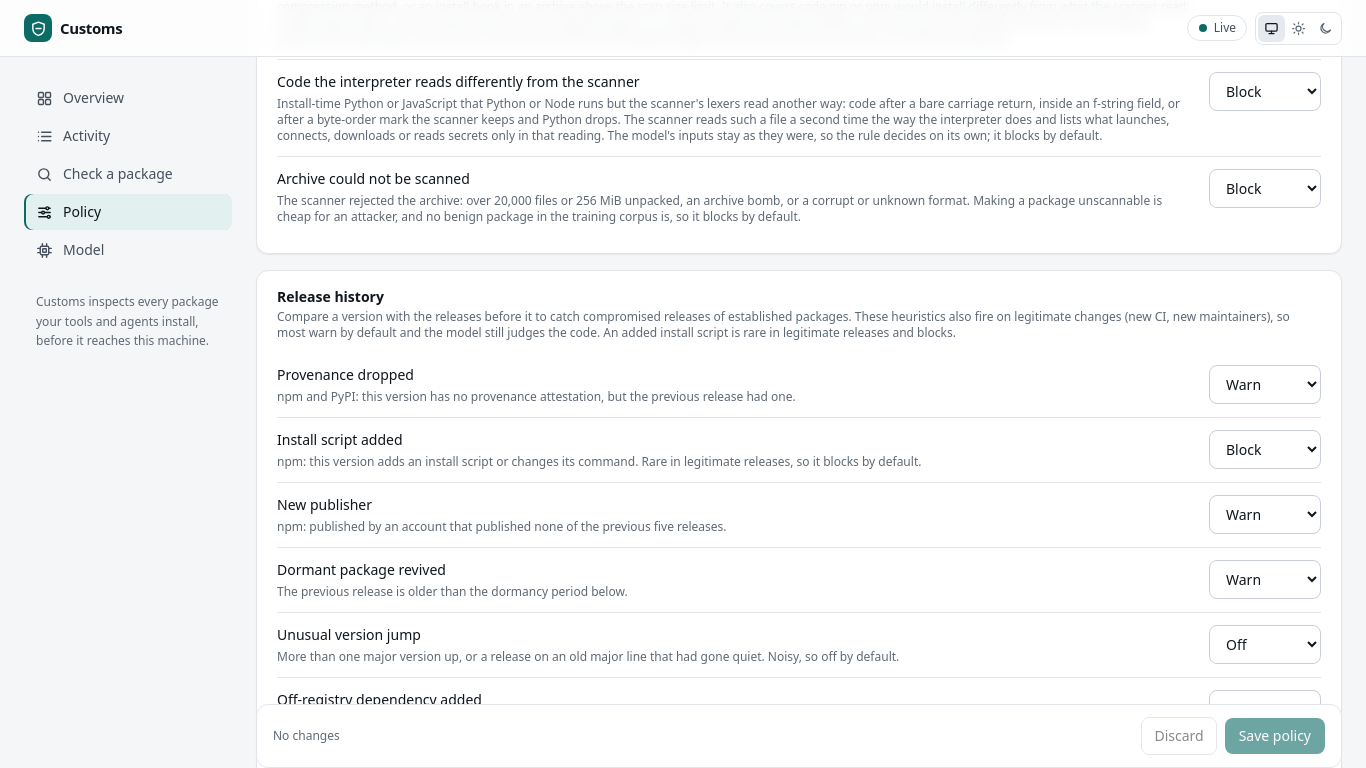
Test: Policy page › edits the release history rules
The width and height of the screenshot is (1366, 768).
(page scrolled)
expect the dropdown labelled "Unusual version jump" shows "Off": met, box [1209,625,1321,664]
expect the dropdown labelled "Install script added" shows "Block": met, box [1209,430,1321,469]
Select "Block" in the dropdown labelled "Provenance dropped" at (1265, 384), box [1209,365,1321,404]
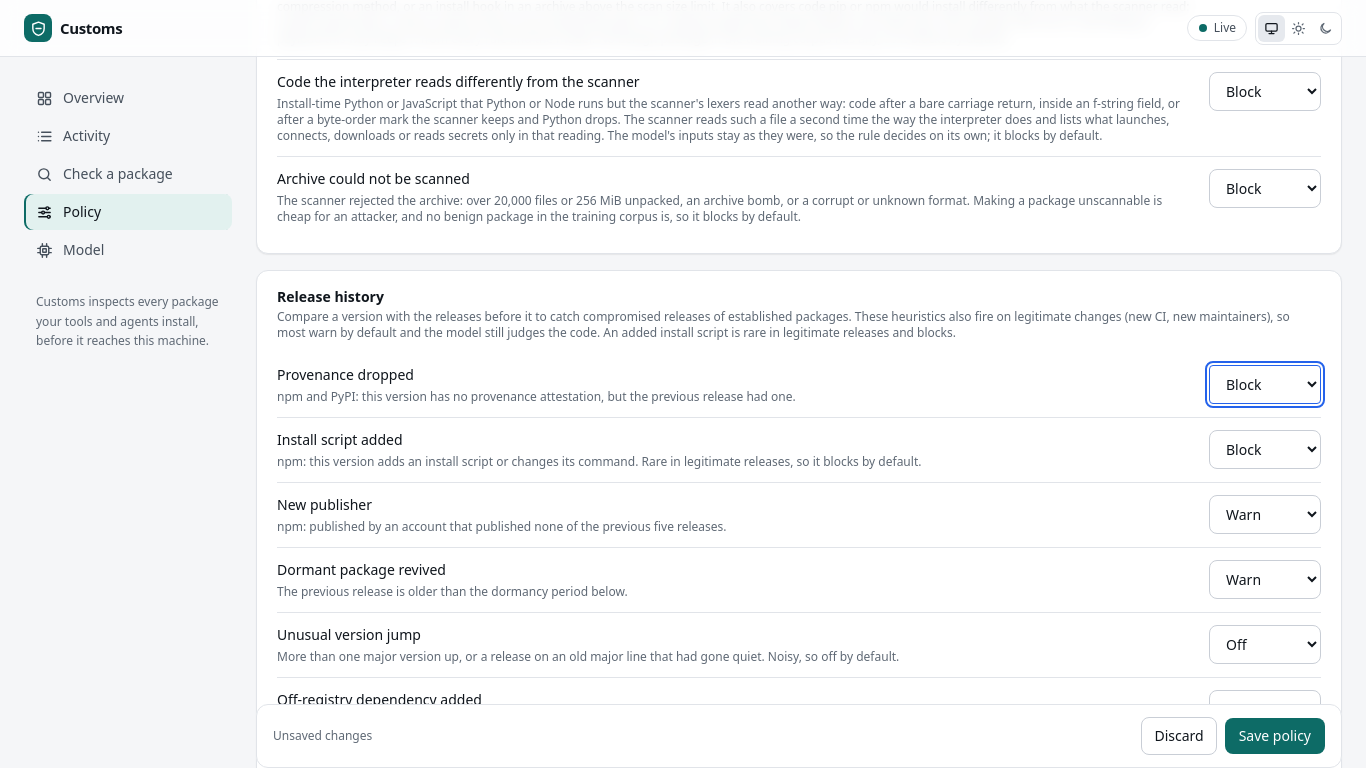
Select "Off" in the dropdown labelled "New publisher" at (1265, 514), box [1209,495,1321,534]
(page scrolled)
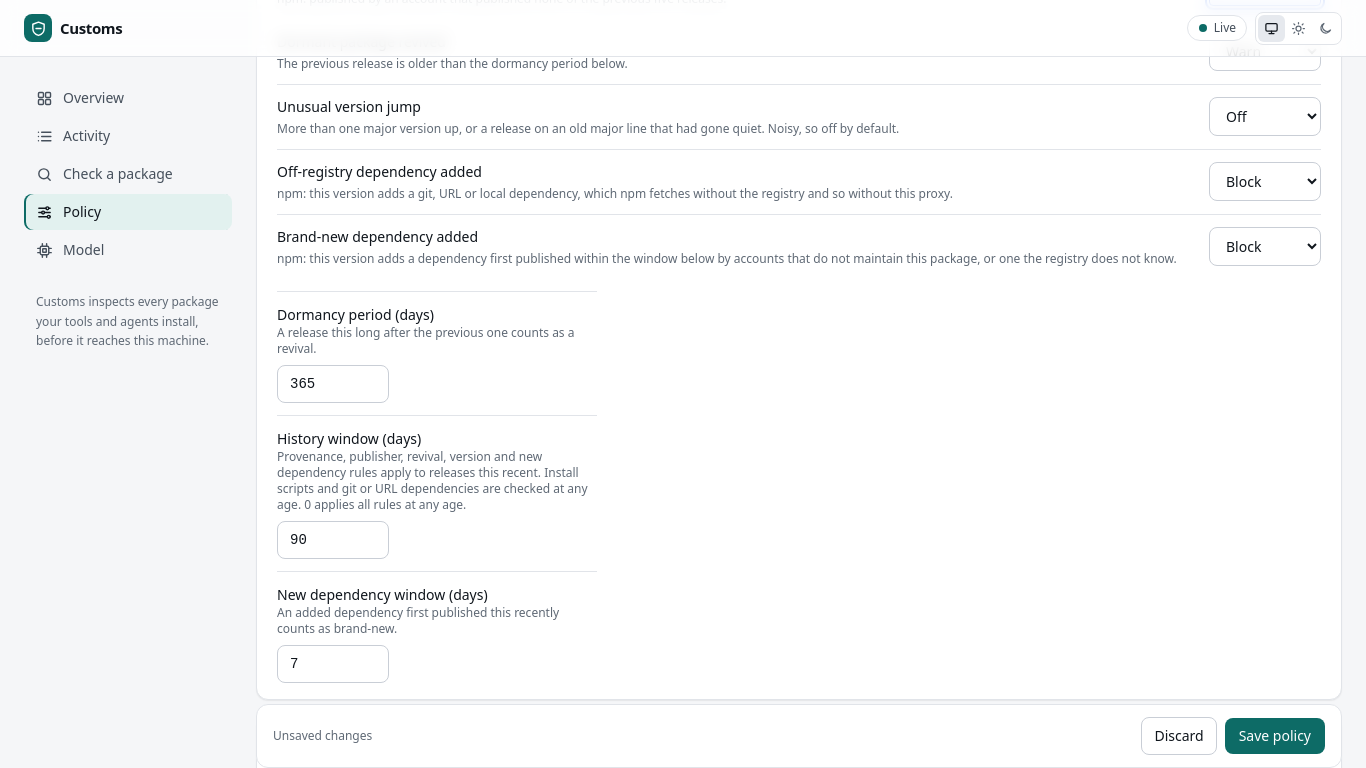
Replace the text in the field labelled "Dormancy period (days)" with "0" at (333, 384), box [277,365,389,403]
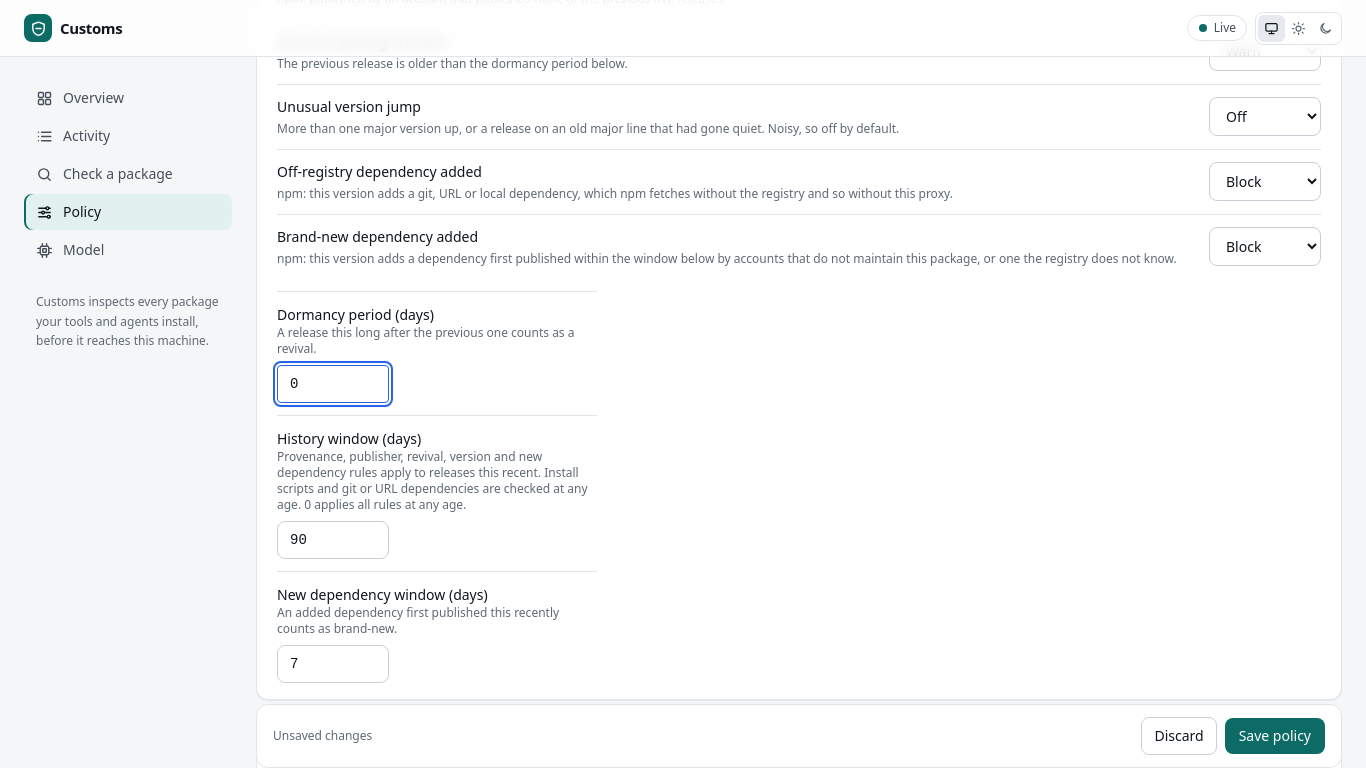
Click the button "Save policy" at (1275, 736), box [1225,718,1325,754]
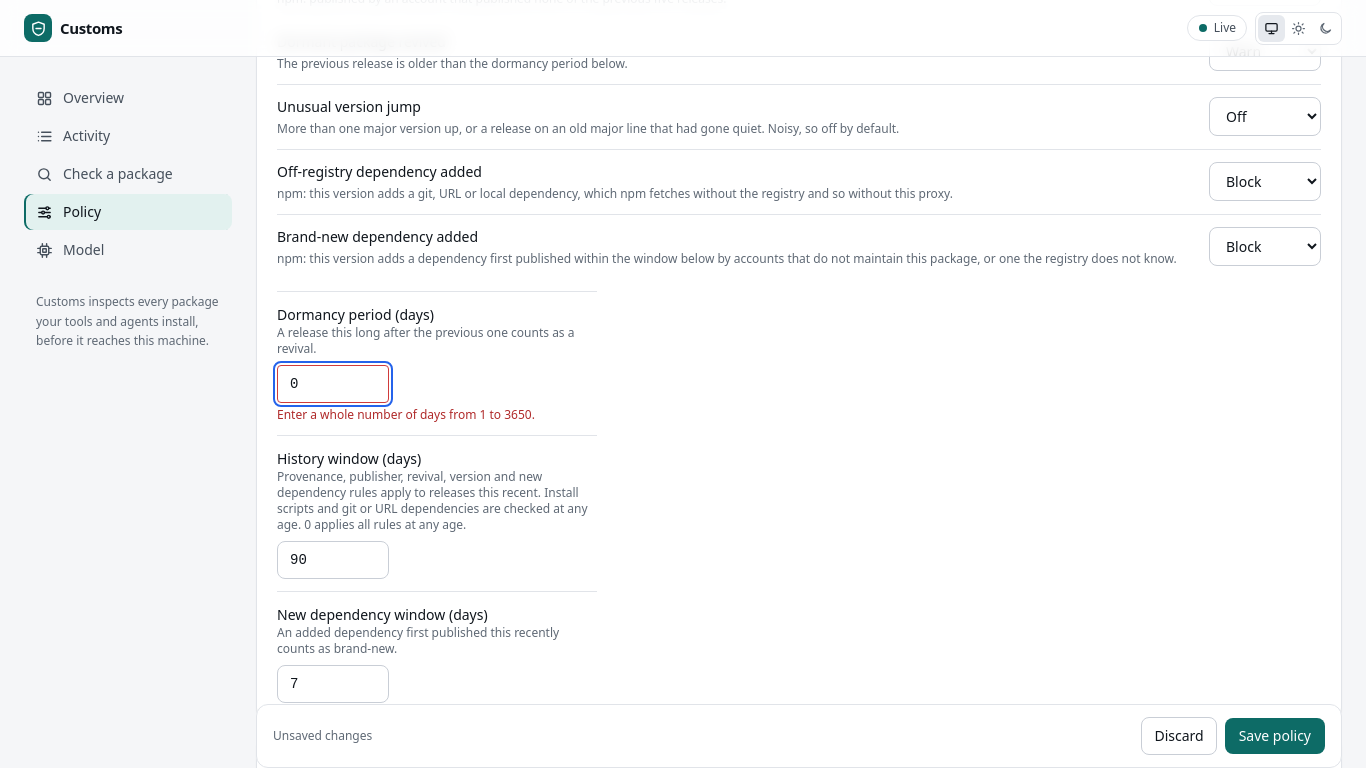
expect the text "Enter a whole number of days from 1 to 3650." is shown: met, box [277,406,535,423]
Replace the text in the field labelled "Dormancy period (days)" with "180" at (333, 384), box [277,365,389,403]
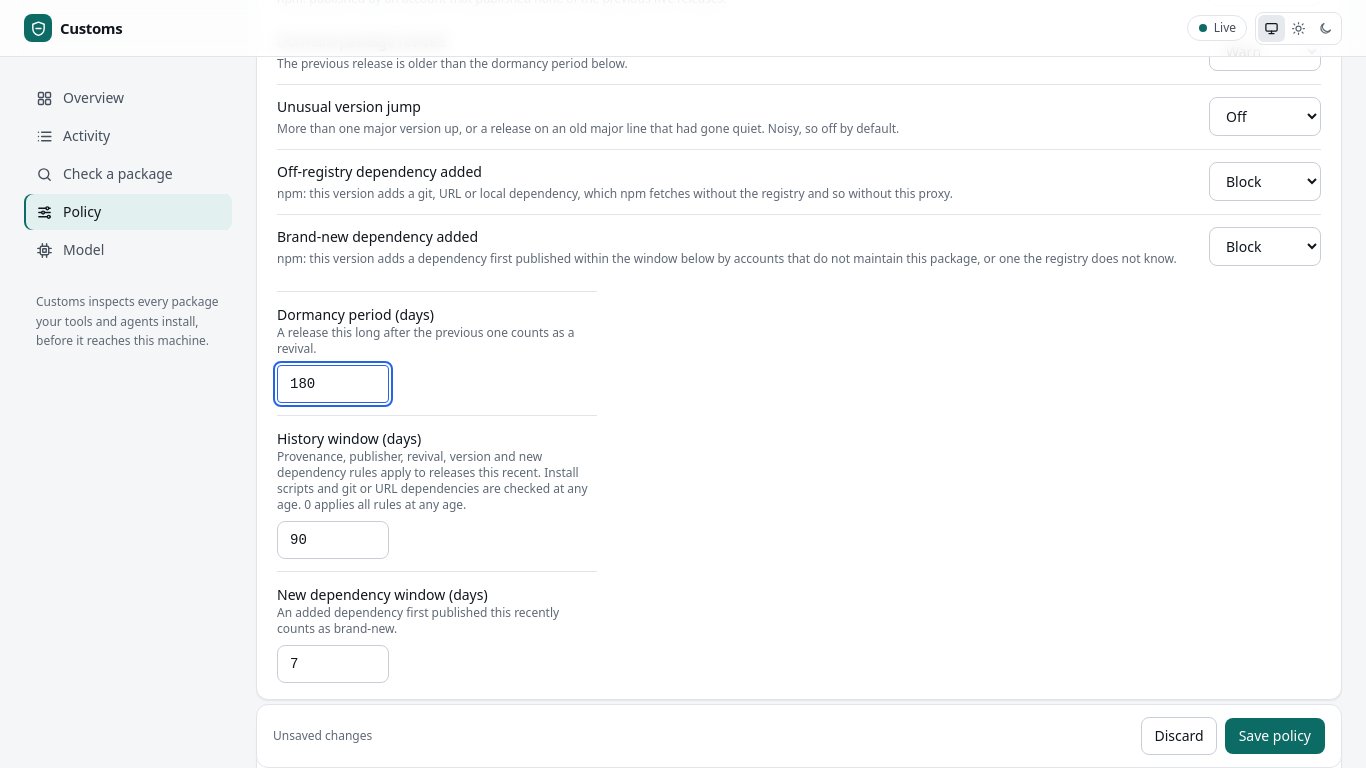
Click the button "Save policy" at (1275, 736), box [1225,718,1325,754]
(page scrolled)
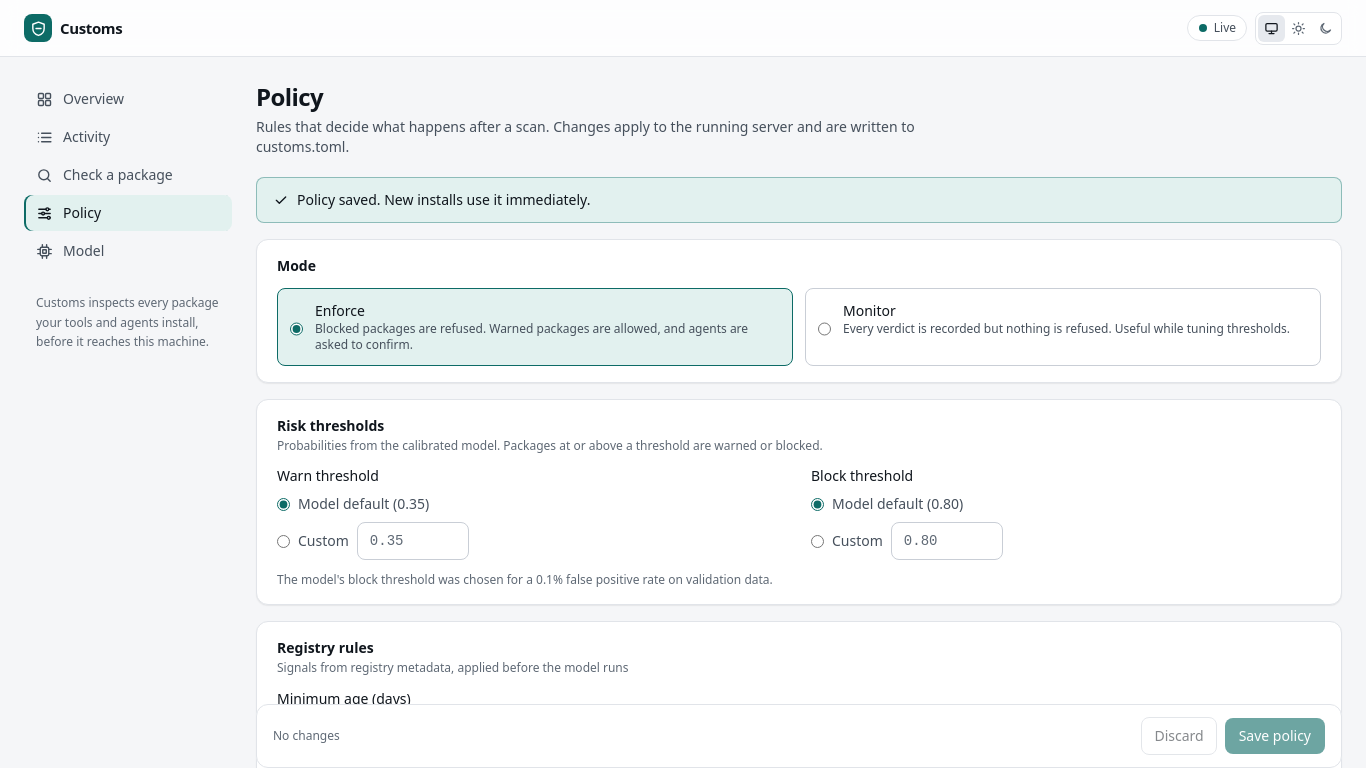
expect the message "Policy saved. New installs use it immediately." is shown: met, box [256,177,1342,223]
